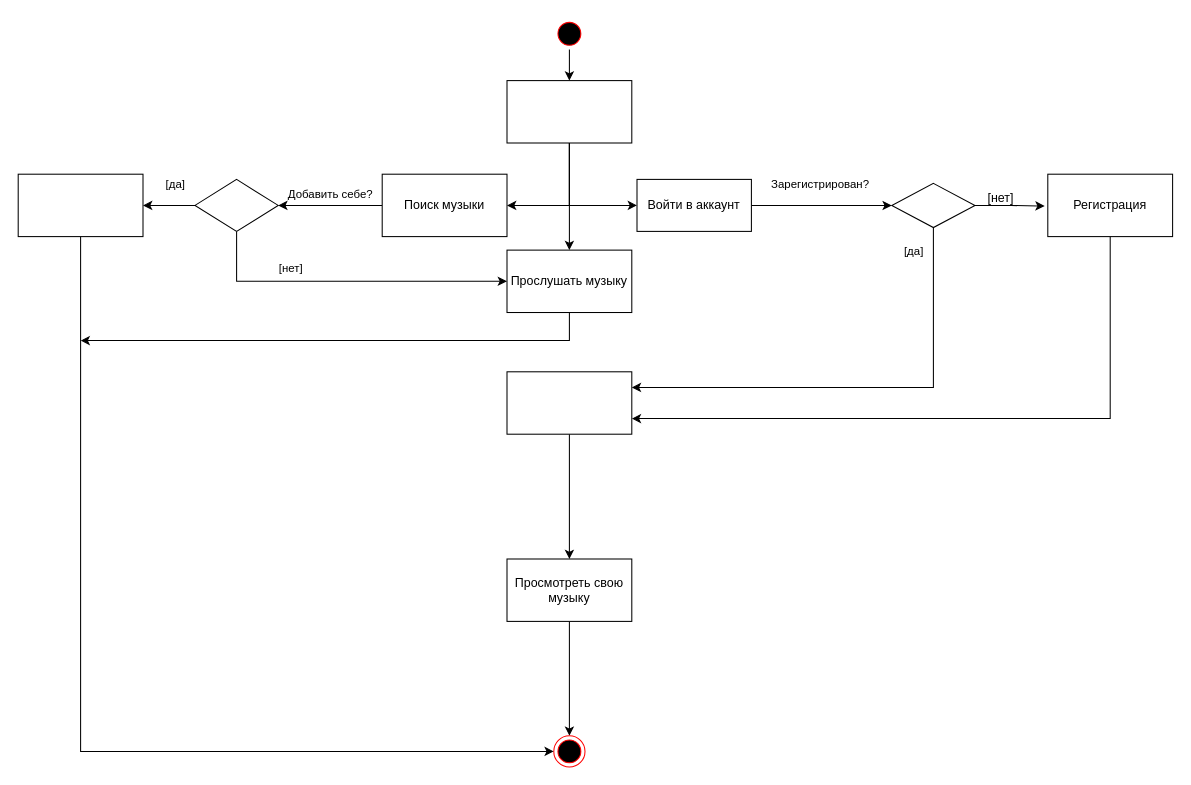
The diagram is 1191 pixels wide and 785 high, and some of its shapes have lost their labels. Each missing label, with the centre of its shape:
"Вход в аккаунт" belongs at point (569, 402).
"Добавить себе музыку" belongs at point (80, 205).
"Запуск приложения" belongs at point (569, 111).
